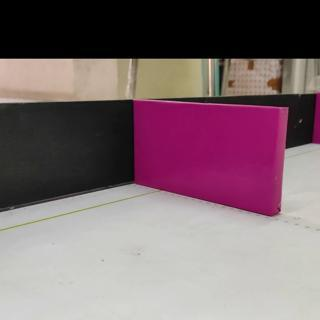xparking: (137, 109, 278, 217)
